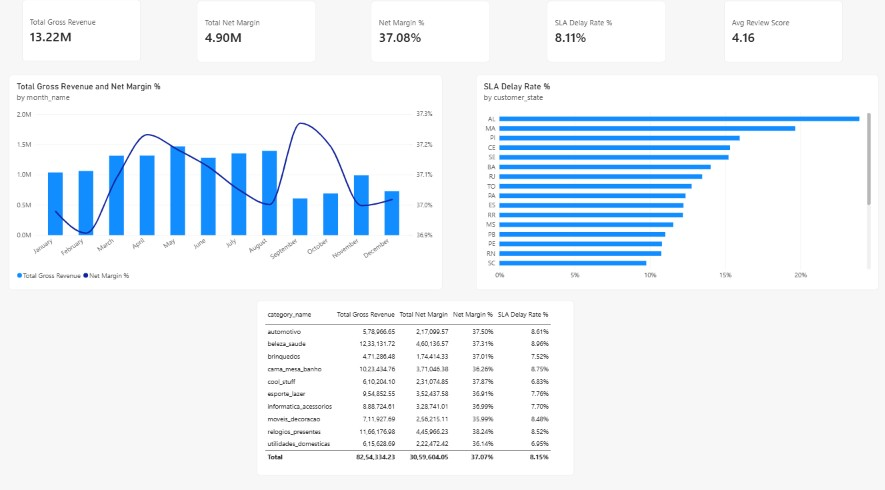

This screenshot's page, from the dashboard's own definition file:
{"tool":"powerbi","page":{"name":"Executive Margin & Growth Scorecard","canvas":[1920,1080],"ordinal":0},"visuals":[{"type":"cardVisual","fields":{"Data":["_Measures.Total Gross Revenue"]},"box":[25.1,22.6,256.2,133.1],"z":0},{"type":"cardVisual","fields":{"Data":["_Measures.Total Net Margin"]},"box":[314,22.6,256.2,133.1],"z":1},{"type":"cardVisual","fields":{"Data":["_Measures.Net Margin %"]},"box":[602.9,22.6,256.2,133.1],"z":2},{"type":"cardVisual","fields":{"Data":["_Measures.SLA Delay Rate %"]},"box":[901.8,22.6,256.2,133.1],"z":3},{"type":"cardVisual","fields":{"Data":["_Measures.Avg Review Score"]},"box":[1203.3,22.6,256.2,133.1],"z":4},{"type":"lineClusteredColumnComboChart","fields":{"Category":["dw dim_date.month_name"],"Y":["_Measures.Total Gross Revenue"],"Y2":["_Measures.Net Margin %"]},"box":[24.7,181.5,934.8,464.7],"z":5},{"type":"clusteredBarChart","fields":{"Category":["dw dim_customers.customer_state"],"Y":["_Measures.SLA Delay Rate %"]},"box":[1031,181.5,868.8,464.7],"z":6},{"type":"tableEx","fields":{"Values":["dw dim_products.category_name","_Measures.Total Gross Revenue","_Measures.Total Net Margin","_Measures.Net Margin %","_Measures.SLA Delay Rate %"]},"box":[558.1,668.1,684,377.1],"z":7}]}

Visuals, with their boxes in screenshot pixels (x1, y1, x2, y2), scaled from the page's 1920x1080 canvas onto the 885x490 screenshot:
cardVisual - _Measures.Total Gross Revenue: BBox(12, 10, 130, 71)
cardVisual - _Measures.Total Net Margin: BBox(145, 10, 263, 71)
cardVisual - _Measures.Net Margin %: BBox(278, 10, 396, 71)
cardVisual - _Measures.SLA Delay Rate %: BBox(416, 10, 534, 71)
cardVisual - _Measures.Avg Review Score: BBox(555, 10, 673, 71)
lineClusteredColumnComboChart - dw dim_date.month_name x _Measures.Total Gross Revenue: BBox(11, 82, 442, 293)
clusteredBarChart - dw dim_customers.customer_state x _Measures.SLA Delay Rate %: BBox(475, 82, 876, 293)
tableEx - dw dim_products.category_name x _Measures.Total Gross Revenue: BBox(257, 303, 573, 474)
